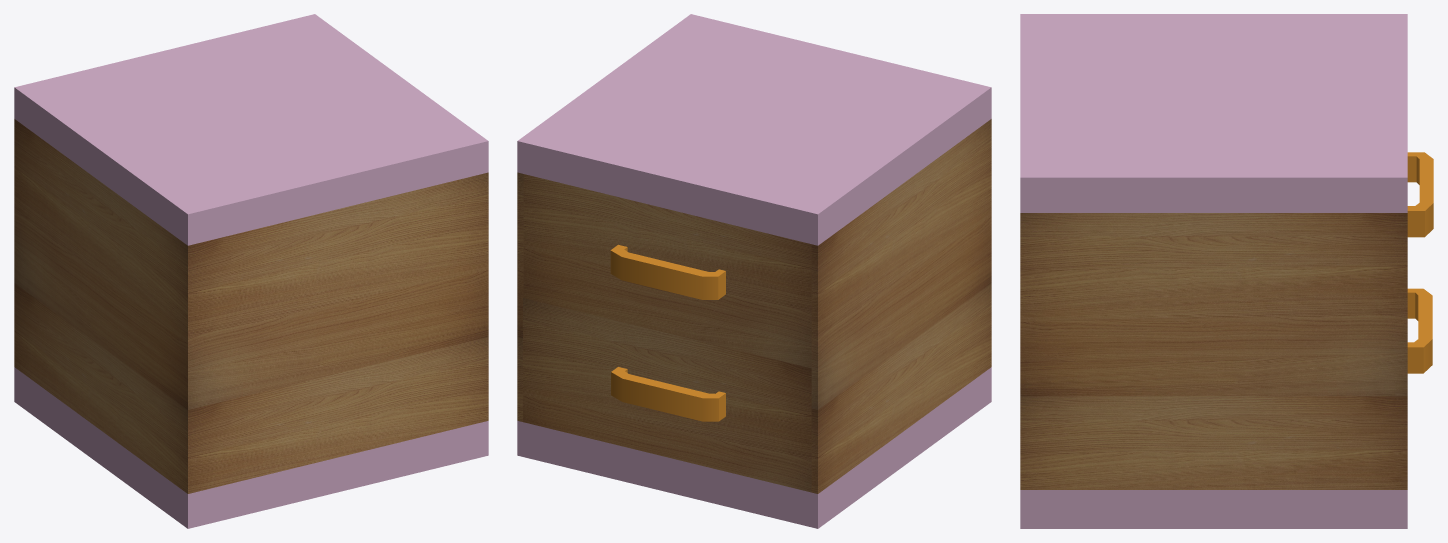
File: Prop_sci_table_wood2.FBX
3 views of the same model, side by side, from view 1: azimuth 30°, elevation 25°; view 2: azimuth 150°, elevation 25°; view 3: azimuth 270°, elevation 25° (orthographic). The views are drawn at different scales.
Visible parts, largest first — view 1: Prop_SC_Table005; view 2: Prop_SC_Table005, Prop_SC_Table003, Prop_SC_Table001, Prop_SC_Table002, Prop_SC_Table004; view 3: Prop_SC_Table005, Prop_SC_Table002, Prop_SC_Table004.
Part boxes in pixels (x1,y1,x2,y2): Prop_SC_Table005: (14,14,488,528); Prop_SC_Table005: (517,14,991,528); Prop_SC_Table003: (523,298,811,492); Prop_SC_Table001: (523,174,811,368); Prop_SC_Table002: (610,244,725,299); Prop_SC_Table004: (611,367,725,421); Prop_SC_Table005: (1020,14,1407,528); Prop_SC_Table002: (1407,152,1433,237); Prop_SC_Table004: (1407,288,1432,373).
Size of the model in its own units: 19.69 by 19.69 by 21.01.
